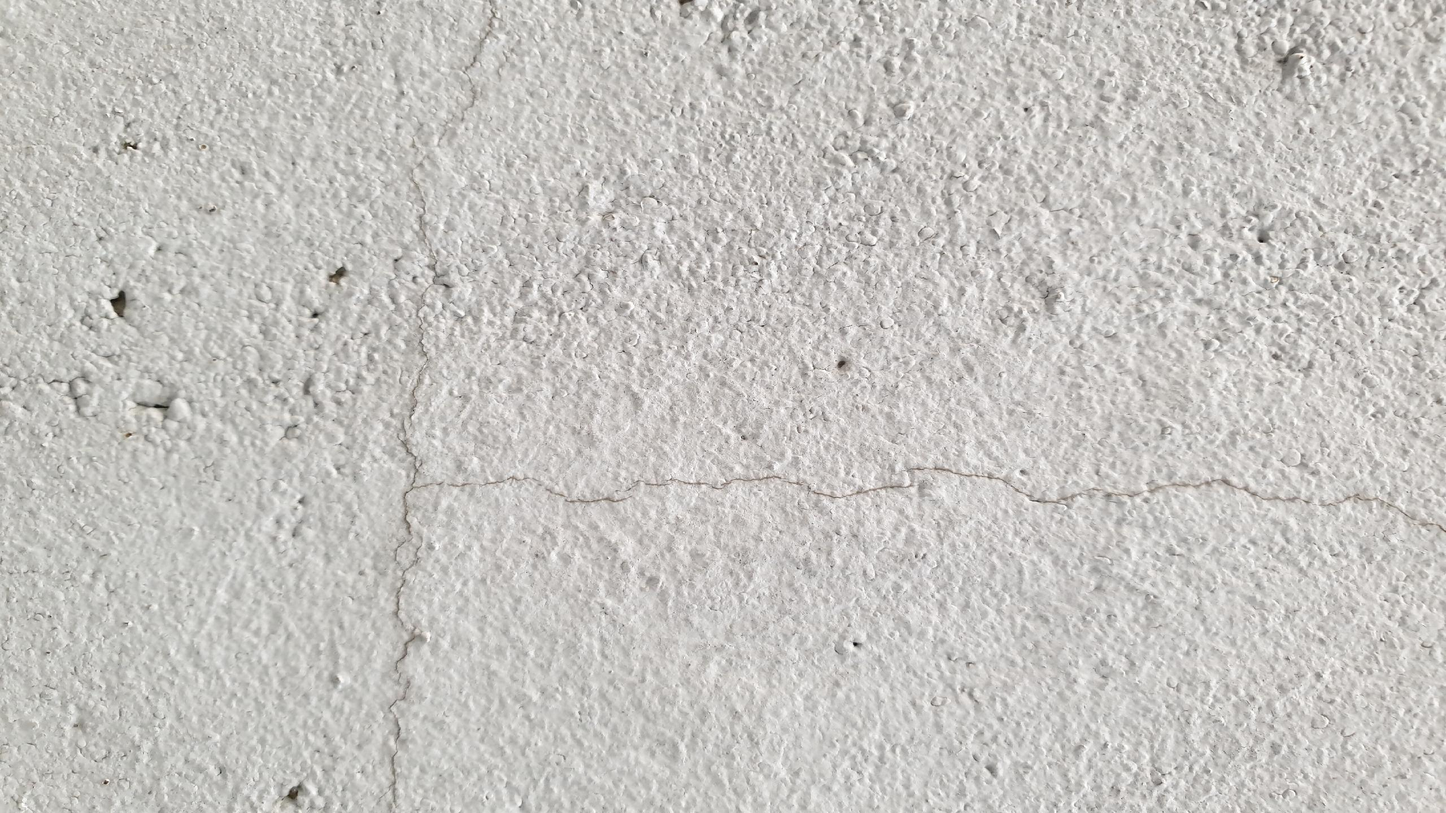crack: (381, 3, 1419, 798)
